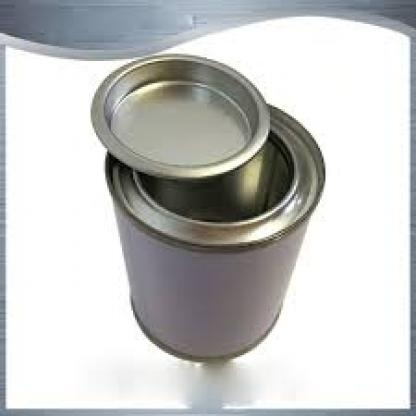trash: (91, 54, 324, 358)
